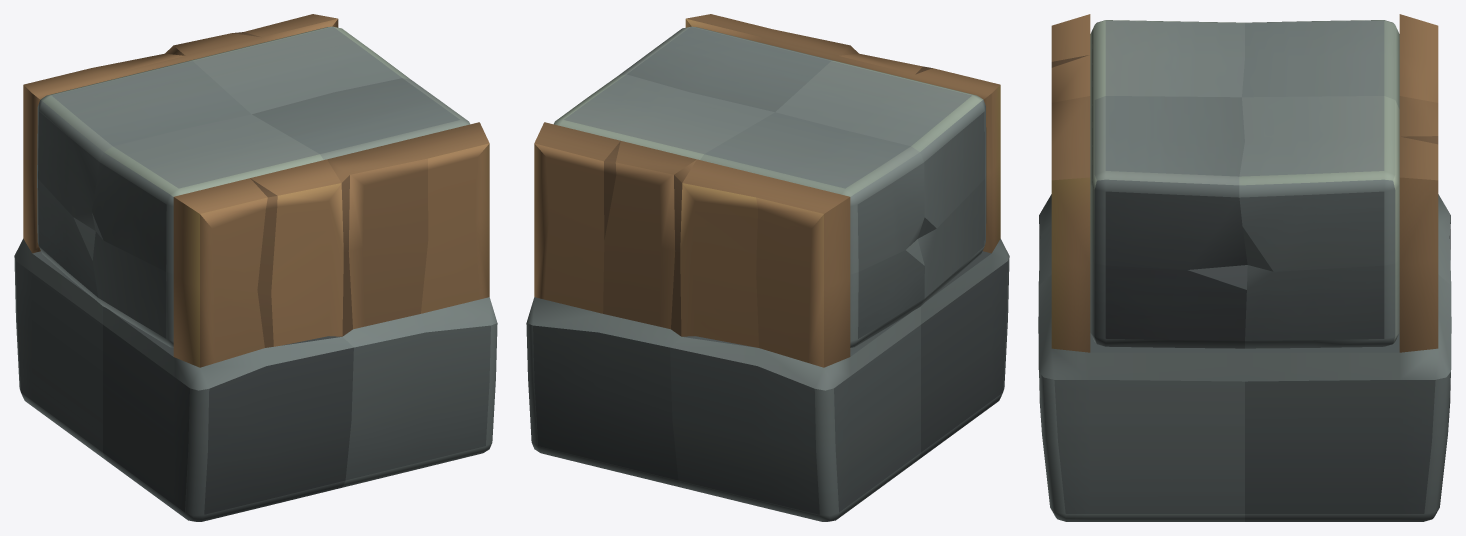
The model's file is tavern_wall_block_base.fbx.
The picture shows the model from 3 angles, left to right: view 1: azimuth 30°, elevation 25°; view 2: azimuth 150°, elevation 25°; view 3: azimuth 270°, elevation 25°; orthographic projection. The views are drawn at different scales.
Parts seen in each view (by area): view 1: tavern_wall_block_base_LOD0; view 2: tavern_wall_block_base_LOD0; view 3: tavern_wall_block_base_LOD0.
Boxes of the visible parts, box(x1,y1,x2,y2) form: tavern_wall_block_base_LOD0: box(14, 14, 497, 521); tavern_wall_block_base_LOD0: box(526, 14, 1009, 521); tavern_wall_block_base_LOD0: box(1038, 14, 1451, 521).
Size of what is drawn, in the model's own units: 105 by 100 by 107.
